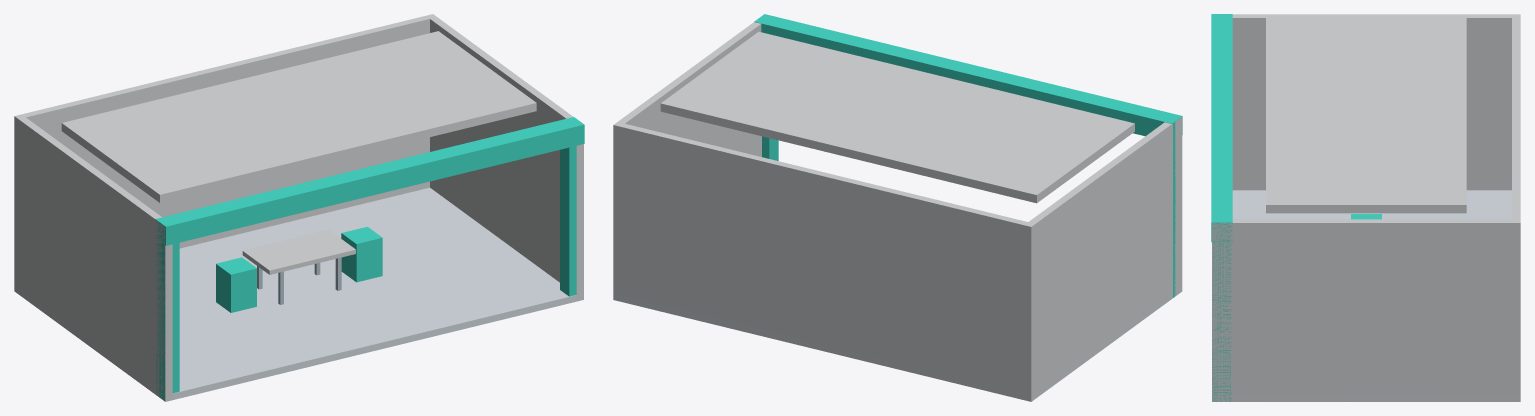
3 renders of one model, left to right at view 1: azimuth 30°, elevation 25°; view 2: azimuth 150°, elevation 25°; view 3: azimuth 270°, elevation 25°, orthographic. The views are drawn at different scales.
Visible parts, largest first — view 1: Exhibition Booth Concept; view 2: Exhibition Booth Concept; view 3: Exhibition Booth Concept.
Part boxes in pixels (bbox=[...]): Exhibition Booth Concept: bbox=[14, 14, 584, 401]; Exhibition Booth Concept: bbox=[613, 14, 1182, 401]; Exhibition Booth Concept: bbox=[1211, 14, 1520, 401].
Size of the model in its own units: 8 by 3.34 by 5.02.
